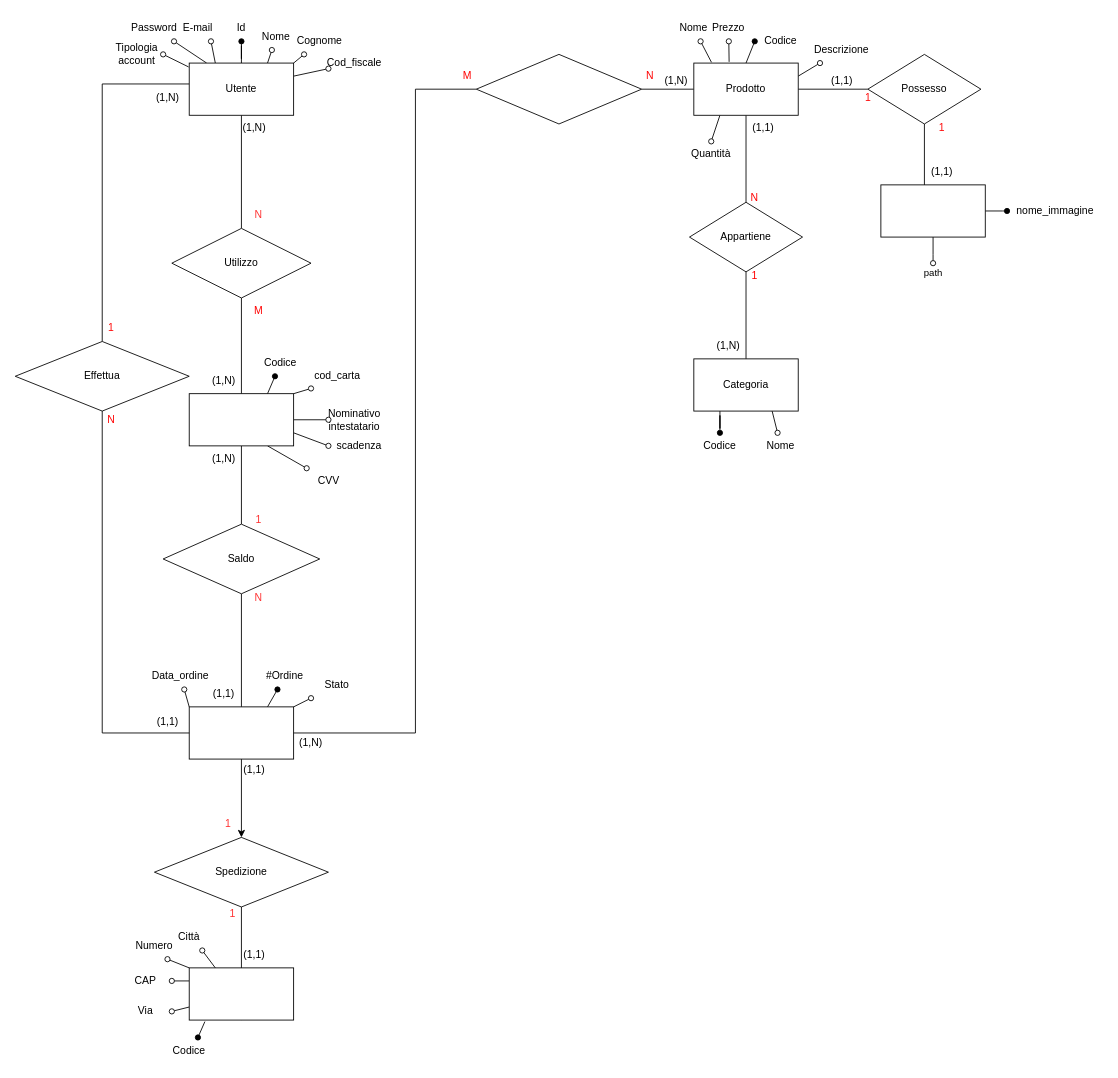
Some shapes in this 1118 by 1078 pixel diagram are drawn without their labels. Here are the shapes that lost their labels. From the top down, the box of each, then its label:
(475, 54, 642, 124): Composizione
(880, 184, 985, 237): Immagine
(188, 393, 294, 446): Metodo di pagamento
(188, 706, 294, 759): Ordine
(188, 967, 294, 1020): Consegna
